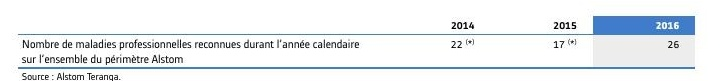table: (0, 0, 721, 81)
